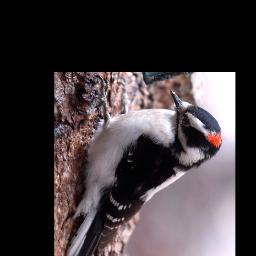Woodpecker: (64, 87, 226, 256)
